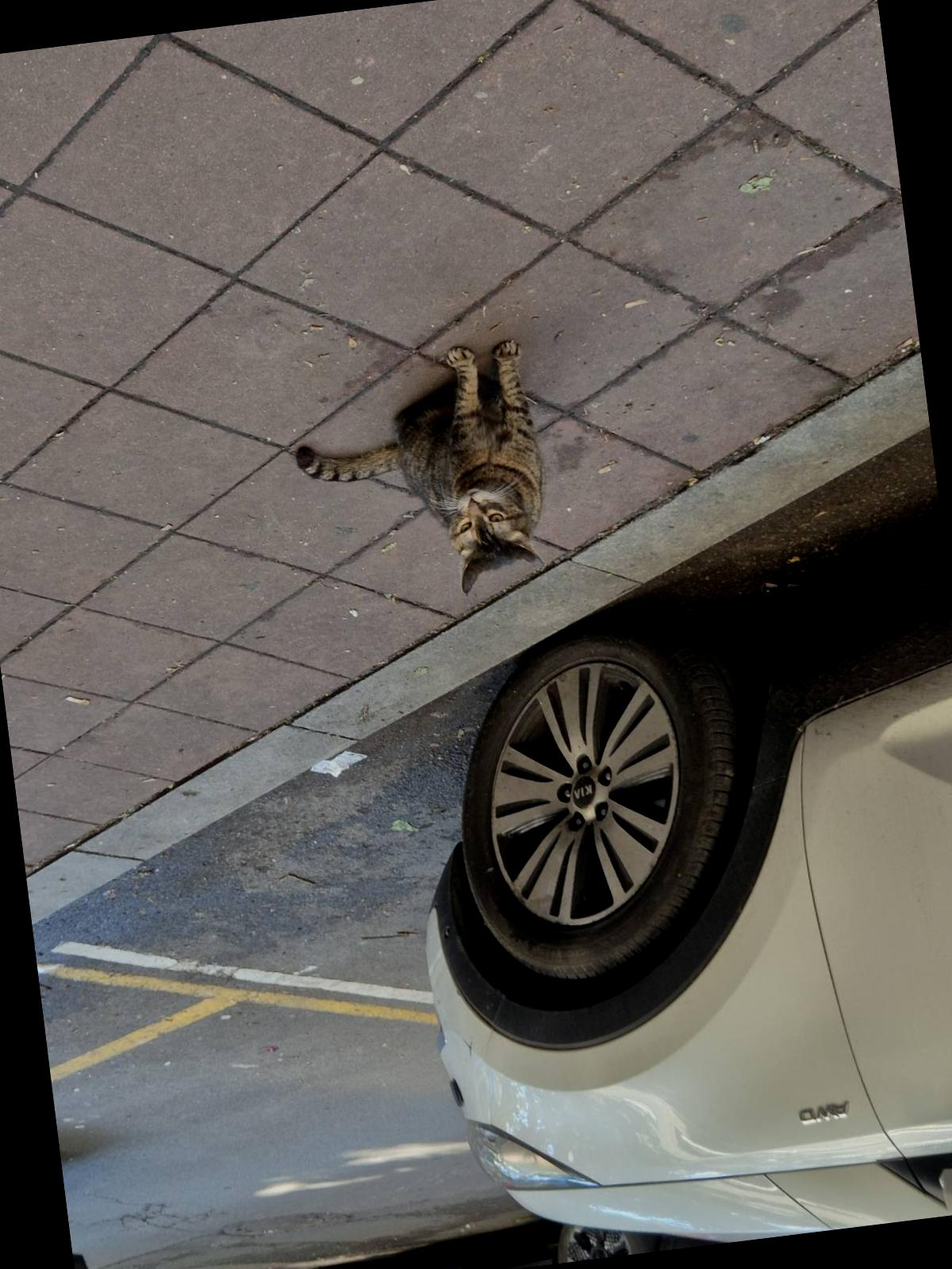macka: (283, 336, 556, 614)
